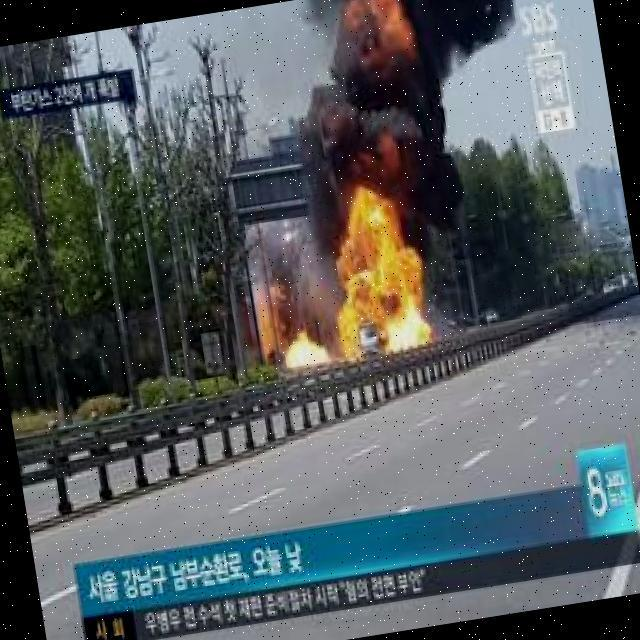Fire: (326, 198, 436, 359), (284, 328, 332, 370), (256, 286, 275, 351)
